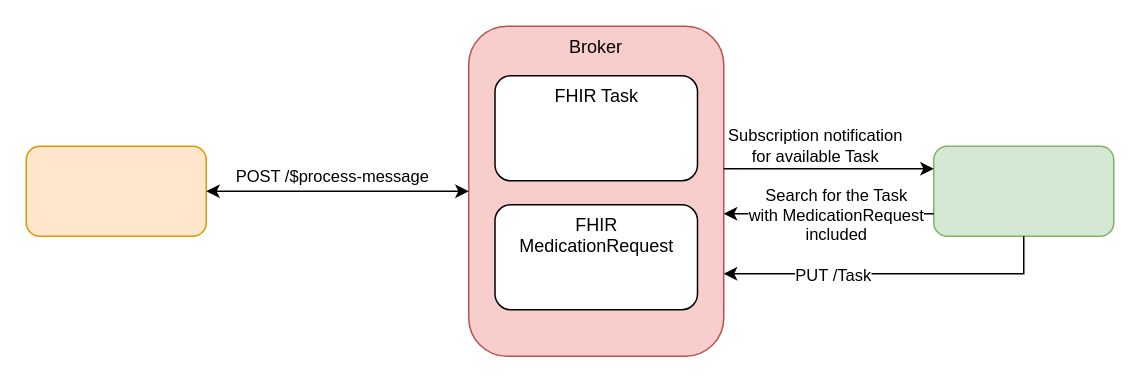
Some shapes in this 1140 by 383 pixel diagram are drawn without their labels. The shapes that lost their labels are listed below. From the top down, each one's centre as x and y in pixels, then its label:
At point (115, 190): "Placer".
At point (1023, 190): "Filler".
